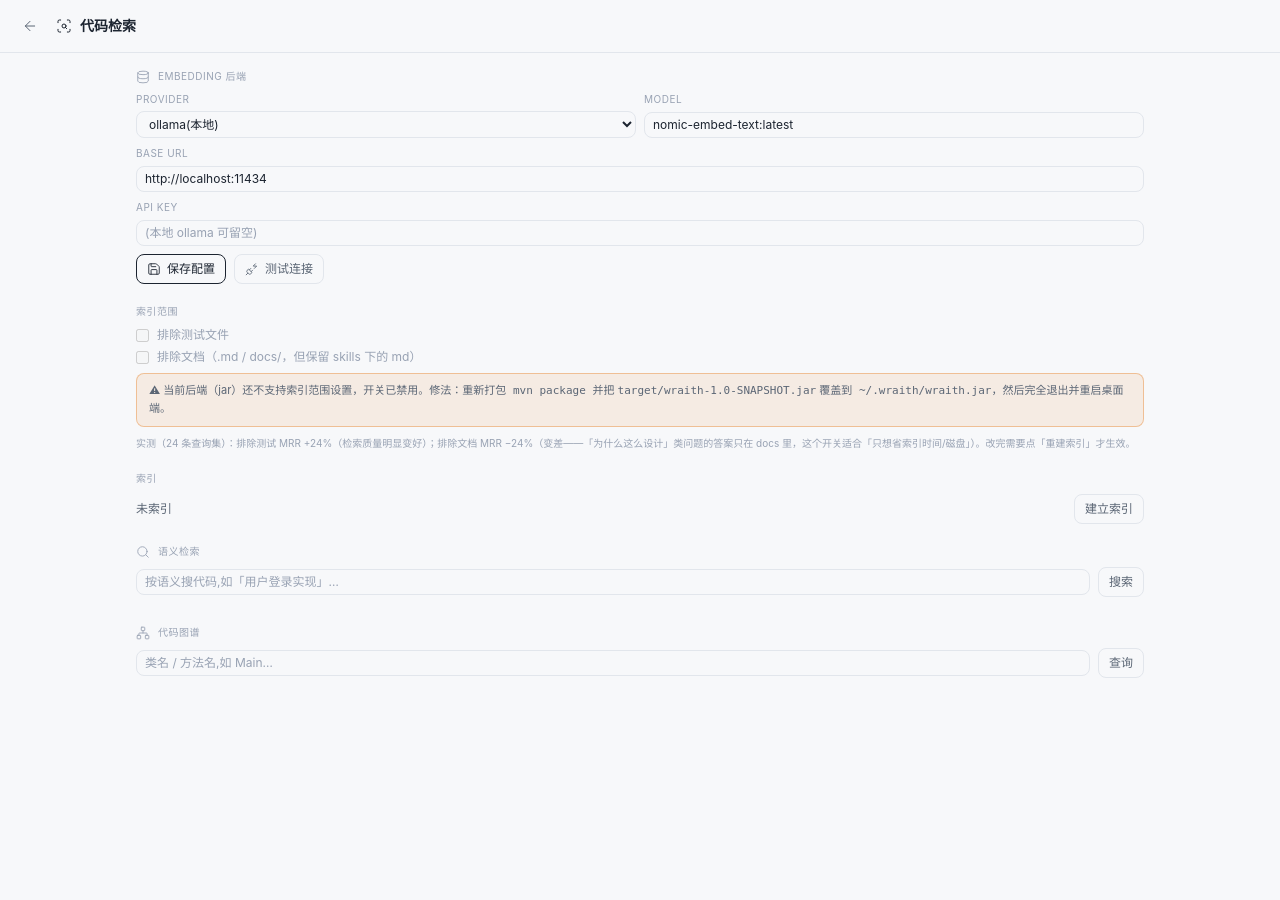
it: RagPanel 测试连接 › 失败:诊断与 OkHttp 原文都在 —— 只给友好话会把人引到错的地方去查
This screenshot has width=1280, height=900.
Click the button "测试连接" at coordinates (279, 269), box [234, 254, 324, 284]
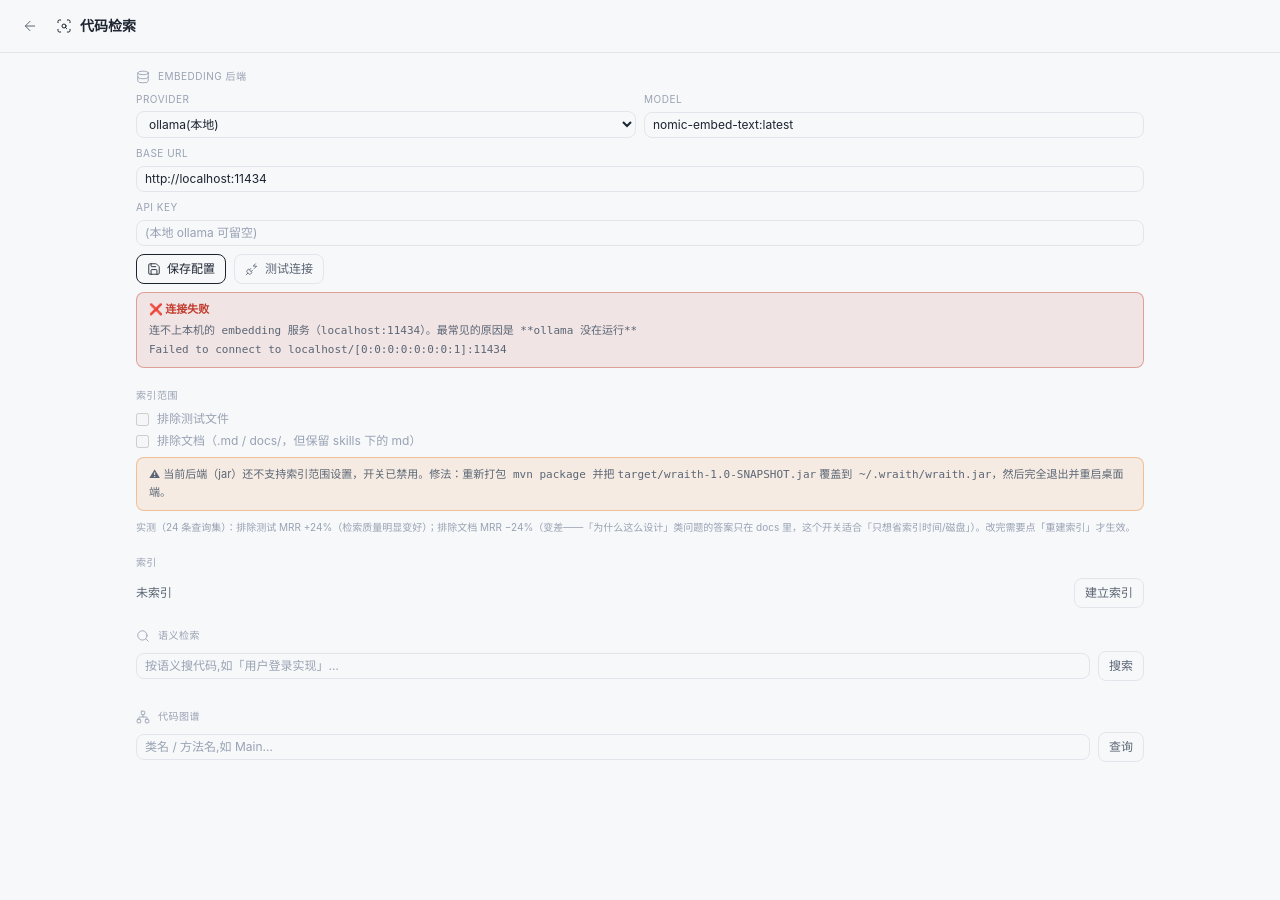
expect the element with test id "rag-embedding-test-result" shows "没在运行": met, box [149, 324, 637, 336]
expect the element with test id "rag-embedding-test-result" shows "Failed to connect to": met, box [149, 343, 507, 356]
